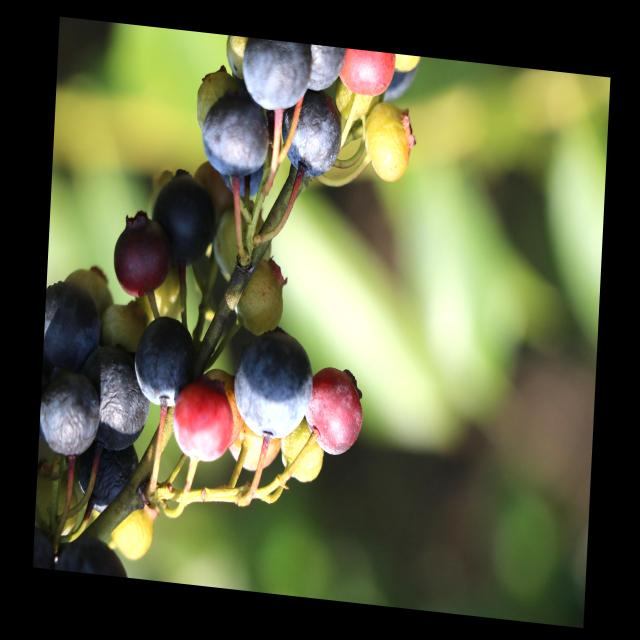blueberry: (229, 328, 312, 447), (80, 347, 152, 457), (42, 270, 108, 379), (128, 312, 196, 416), (149, 168, 216, 272), (231, 36, 310, 118), (38, 364, 101, 466), (278, 88, 343, 181), (203, 92, 267, 180), (72, 437, 140, 518), (303, 44, 343, 101)
blueberry-halfripe: (302, 363, 368, 458), (169, 384, 232, 466), (110, 216, 170, 300), (341, 48, 394, 98)
blueberry-unripe: (361, 102, 416, 185), (234, 256, 290, 336), (213, 210, 274, 283), (109, 503, 157, 558), (280, 429, 322, 489)
